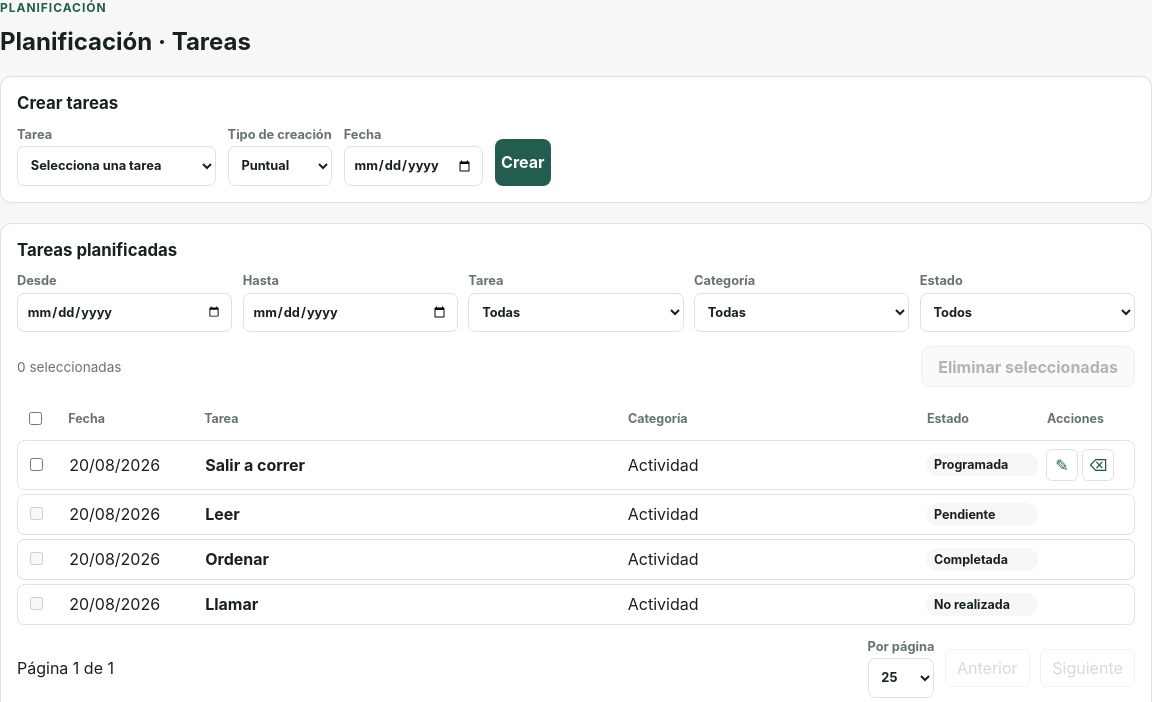
Test: PlanningTasksPage › clears stale selected lock versions after failed bulk deletion
The width and height of the screenshot is (1152, 702).
Click the checkbox named "Seleccionar Salir a correr". click: (36,464)
box: [30, 458, 43, 471]
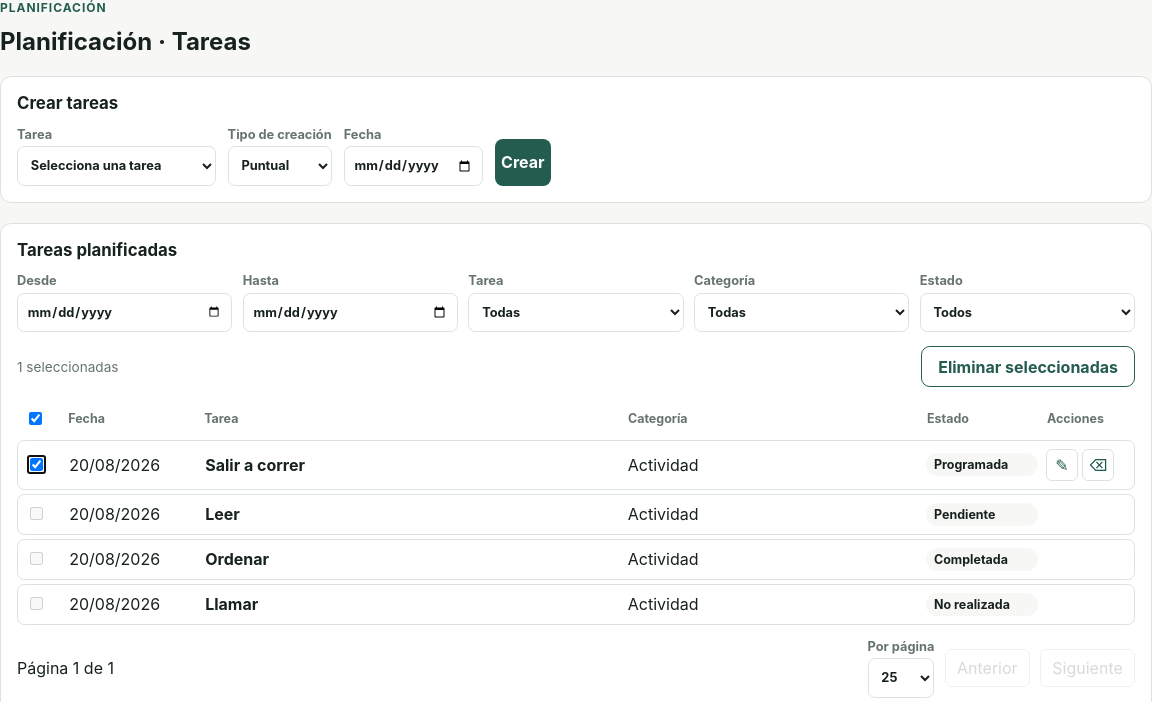
Result: the text "1 seleccionadas" is shown at [17, 358, 118, 374]
Click the button "Eliminar seleccionadas". click: (1028,367)
box: [921, 346, 1135, 387]
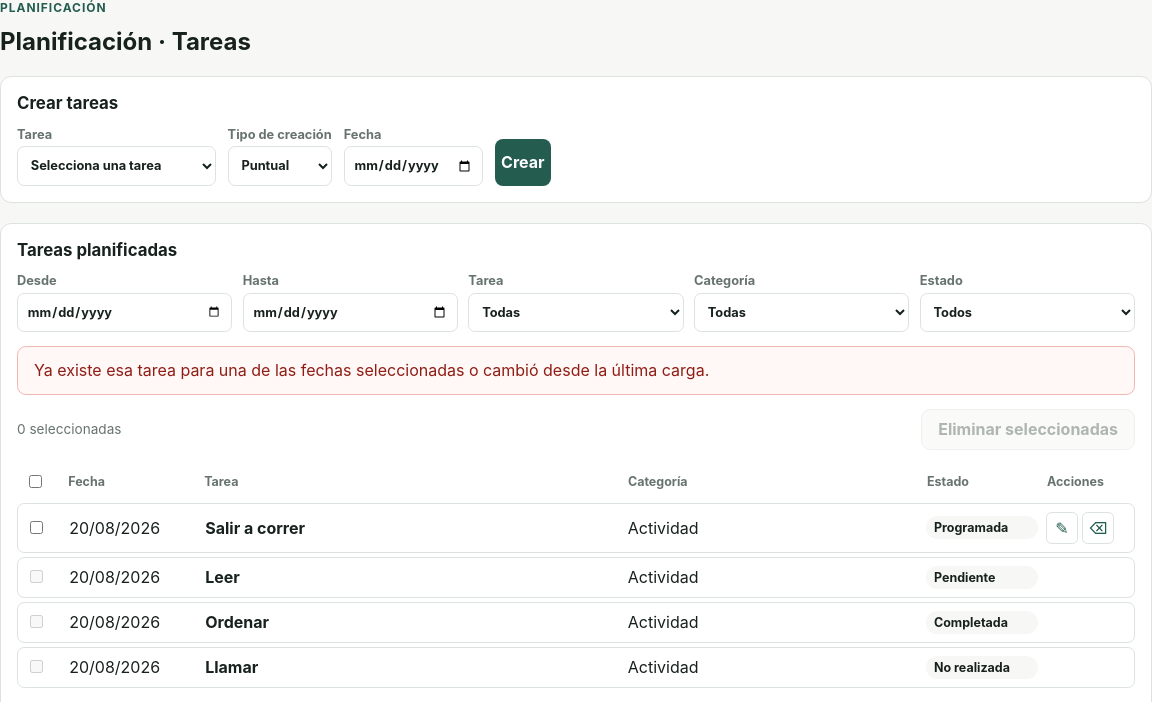
Result: the checkbox named "Seleccionar Salir a correr" is not checked at [30, 521, 43, 534]
Result: the message shows "cambió desde la última carga" at [34, 360, 709, 380]
Result: the text "0 seleccionadas" is shown at [17, 421, 122, 437]
